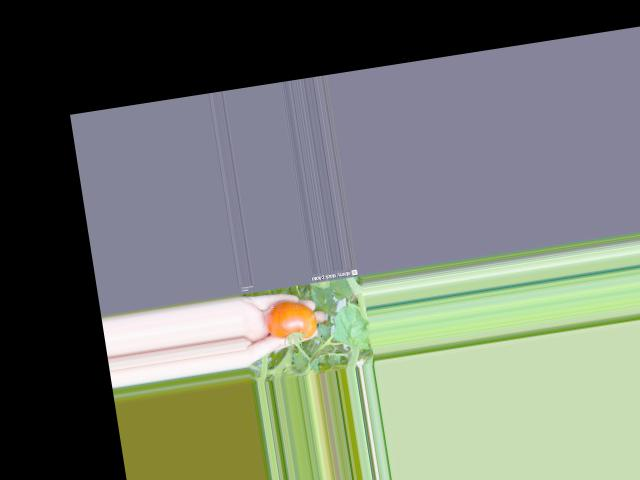tomato: (262, 297, 318, 343)
